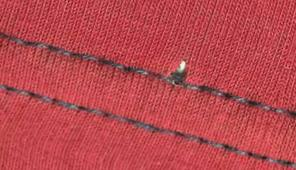hole: (170, 57, 196, 79)
